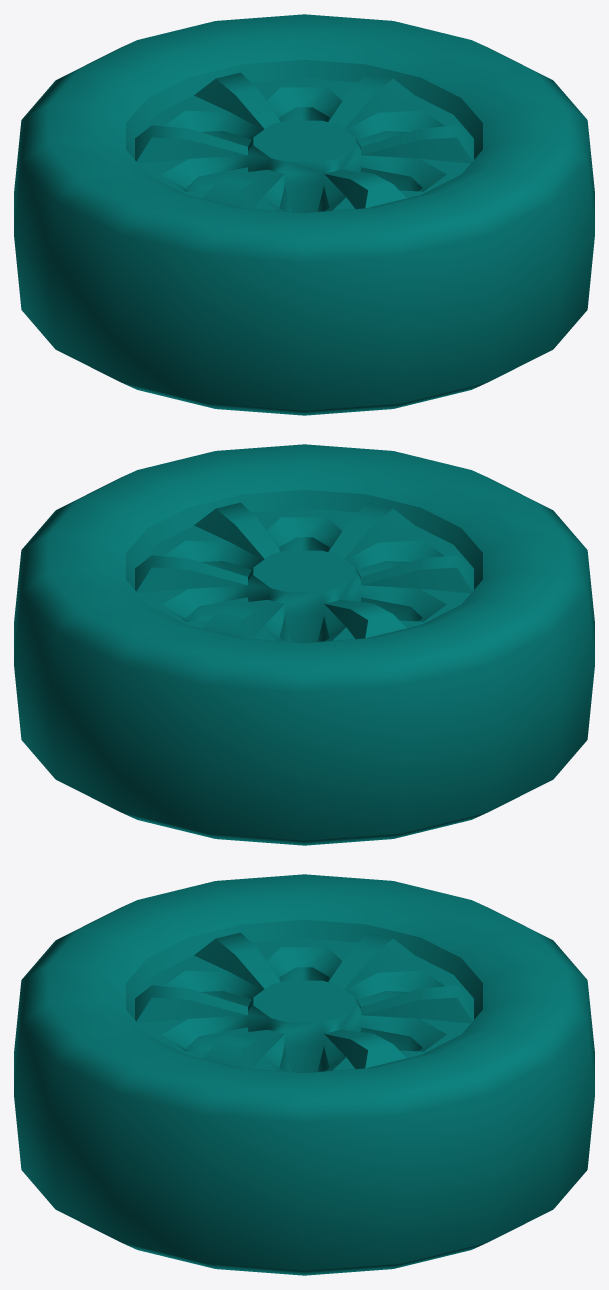
File: mesh_TyreWheel_v2.fbx
The picture shows the model from 3 angles, top to bottom: view 1: azimuth 30°, elevation 25°; view 2: azimuth 150°, elevation 25°; view 3: azimuth 270°, elevation 25°; orthographic projection.
Parts seen in each view (by area): view 1: mesh_TyreWheel_v2_0; view 2: mesh_TyreWheel_v2_0; view 3: mesh_TyreWheel_v2_0.
Part boxes in pixels (x1,y1,x2,y2): mesh_TyreWheel_v2_0: (14,14,594,415); mesh_TyreWheel_v2_0: (14,444,594,845); mesh_TyreWheel_v2_0: (14,874,594,1275).
Size of the model in its own units: 70.49 by 23.94 by 69.42.
